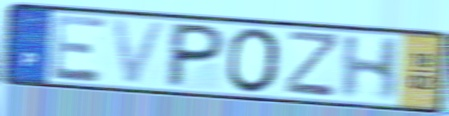E: (50, 12, 110, 85)
H: (338, 34, 405, 103)
O: (225, 26, 284, 95)
P: (161, 20, 229, 90)
V: (108, 16, 170, 87)
Z: (283, 29, 341, 101)
